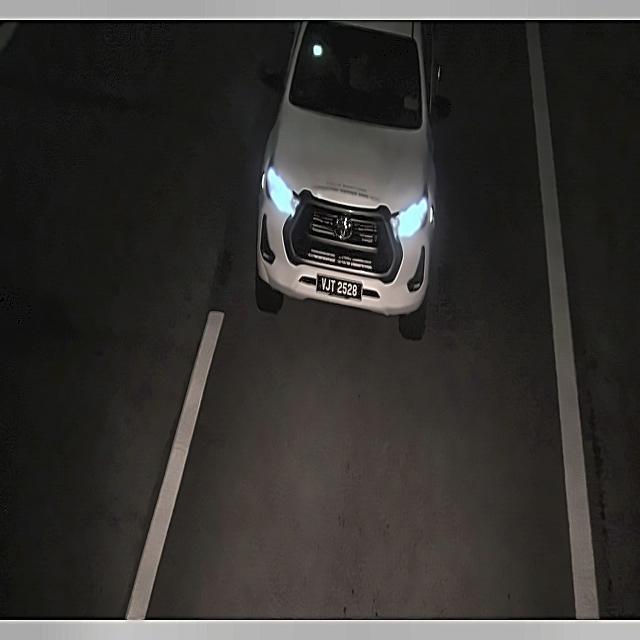car: (311, 269, 366, 306)
